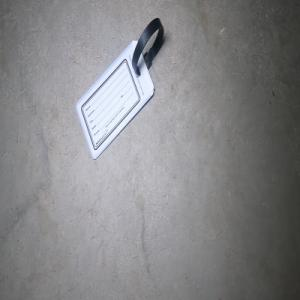LuggageTag: (74, 16, 165, 161)
